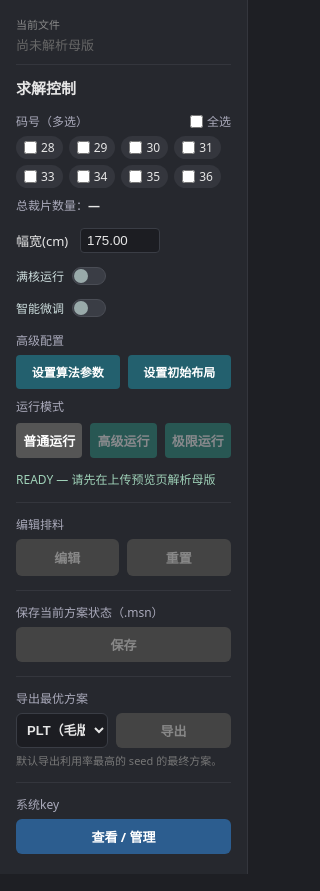
Test: ControlPanel start flow (US-004) › 码号空 → #start disabled；勾选码号 → #start 解灰
The width and height of the screenshot is (320, 891).
Expected: the button with id "start" is disabled, left=16, top=423, right=82, bottom=458
Click the checkbox labelled "28": (30, 148) left=24, top=141, right=37, bottom=154
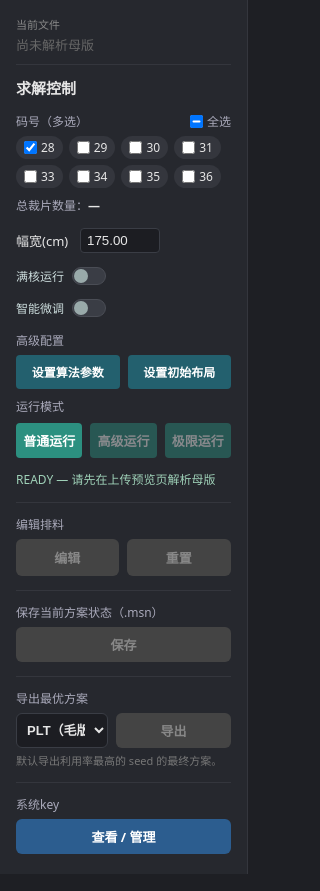
Expected: the button with id "start" is enabled, left=16, top=423, right=82, bottom=458
